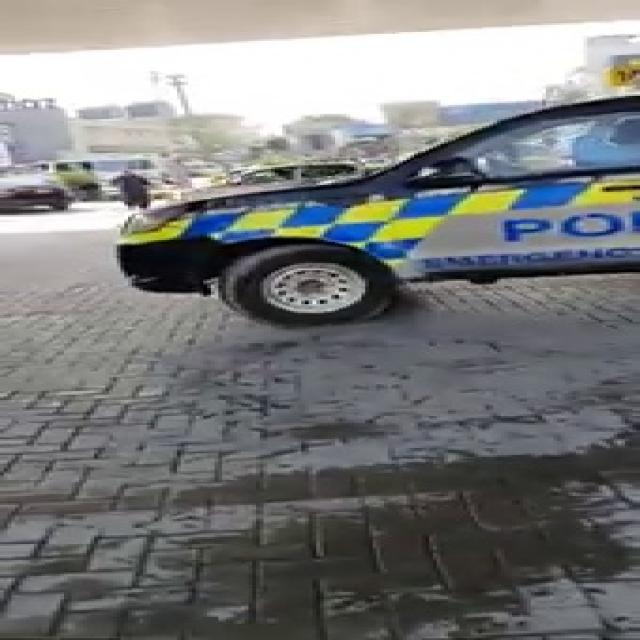police: (60, 46, 640, 315)
